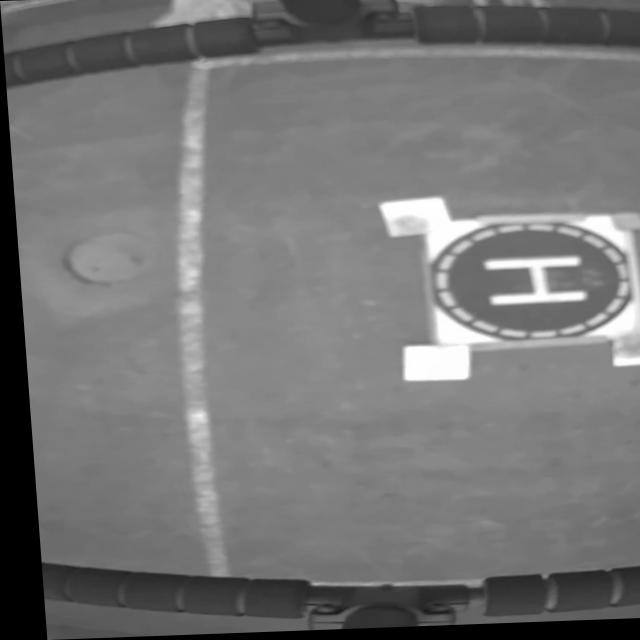Helipad: (477, 262, 581, 307)
